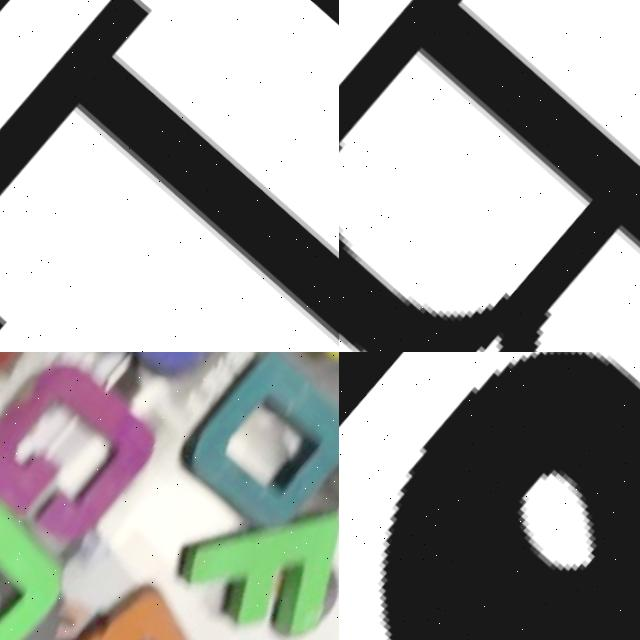8: (339, 352, 640, 640)
B: (339, 0, 640, 352), (47, 352, 292, 397)
C: (0, 474, 79, 640)
D: (148, 352, 339, 543)
F: (141, 457, 339, 640)
G: (0, 352, 173, 565)
H: (302, 352, 339, 567)
L: (0, 0, 339, 352)
W: (1, 559, 247, 640)
